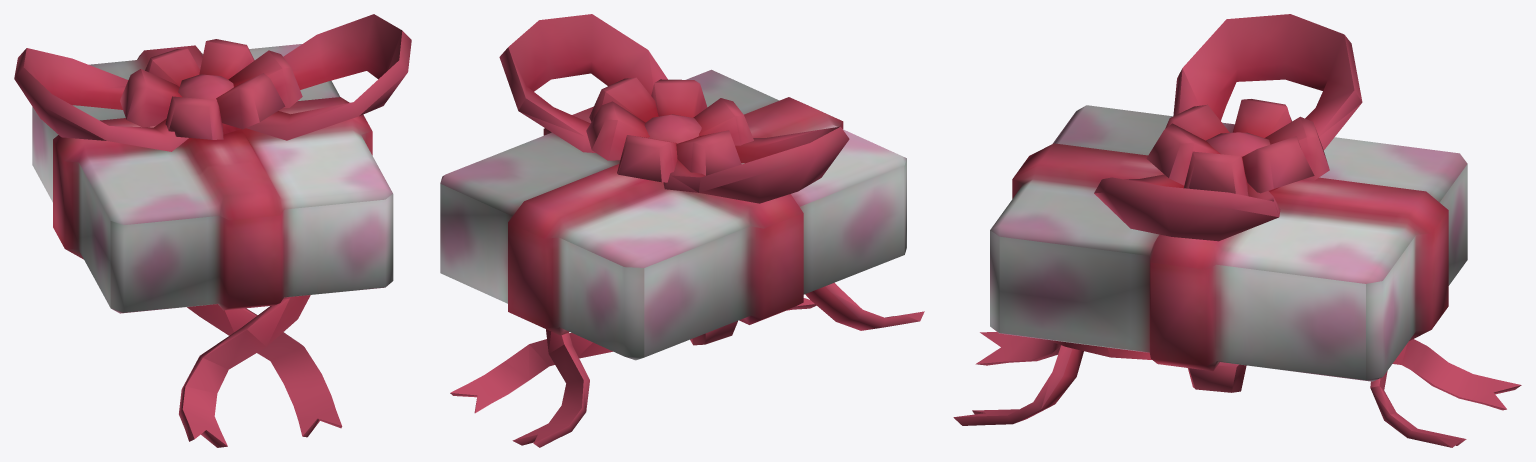
The model's file is bdWeapon.glb.
3 renders of one model, left to right at view 1: azimuth 30°, elevation 25°; view 2: azimuth 150°, elevation 25°; view 3: azimuth 270°, elevation 25°, orthographic. The views are drawn at different scales.
Parts seen in each view (by area): view 1: Sheep_bdWeapon_tri; view 2: Sheep_bdWeapon_tri; view 3: Sheep_bdWeapon_tri.
Boxes of the visible parts, box(x1,y1,x2,y2) form: Sheep_bdWeapon_tri: box(14, 14, 411, 447); Sheep_bdWeapon_tri: box(440, 14, 924, 447); Sheep_bdWeapon_tri: box(953, 14, 1521, 447).
Size of the model in its own units: 0.3284 by 0.2781 by 0.4343.
1 material, 1 textured.
